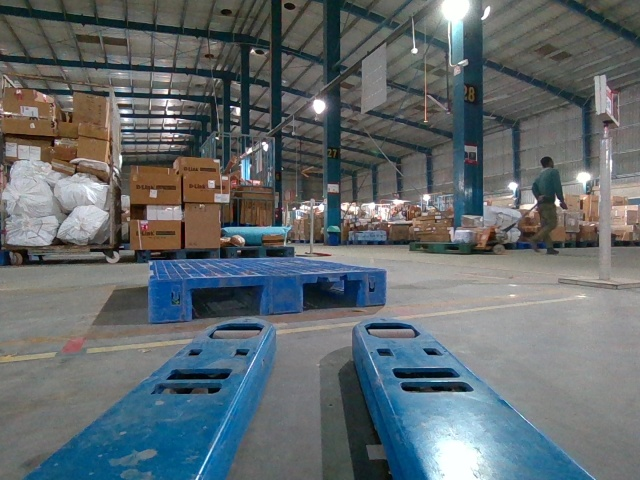block: (145, 278, 191, 323), (260, 275, 303, 313), (361, 266, 388, 308)
front: (150, 269, 387, 321)
hole pallet: (183, 280, 268, 322), (300, 270, 366, 308)
